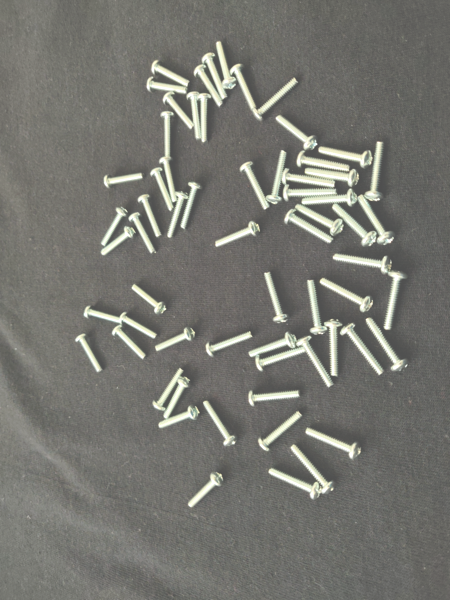longscrew: (365, 315, 410, 373), (339, 322, 385, 377), (290, 444, 337, 496), (252, 76, 300, 123), (305, 423, 362, 462), (296, 335, 335, 391), (331, 203, 378, 248), (319, 277, 375, 314), (358, 193, 396, 247), (258, 410, 304, 452), (284, 208, 336, 245), (267, 468, 323, 502), (202, 401, 239, 449), (294, 203, 346, 237), (275, 114, 319, 152), (239, 161, 272, 211), (383, 270, 410, 331), (318, 142, 373, 170), (263, 271, 291, 325), (152, 368, 186, 412), (364, 140, 388, 202), (248, 331, 299, 360), (230, 63, 259, 113), (193, 64, 224, 110), (255, 346, 307, 373), (332, 253, 393, 276), (265, 150, 290, 206), (214, 221, 262, 250), (205, 331, 254, 359), (201, 52, 228, 102), (162, 91, 195, 131), (111, 325, 147, 361), (163, 377, 193, 420), (188, 474, 224, 509), (323, 318, 344, 378), (307, 279, 329, 336), (300, 188, 359, 209), (179, 181, 204, 230), (302, 168, 360, 189), (128, 212, 156, 255), (119, 311, 159, 341), (75, 333, 104, 374), (100, 206, 129, 247), (131, 282, 167, 315), (296, 150, 350, 172), (100, 225, 137, 257), (166, 191, 190, 239), (137, 193, 162, 239), (154, 327, 197, 353), (151, 60, 190, 88), (150, 167, 174, 212), (216, 41, 238, 90), (157, 405, 200, 430), (282, 184, 338, 203), (281, 169, 337, 188), (248, 388, 301, 408), (159, 156, 179, 203), (196, 93, 213, 145), (82, 305, 124, 326), (146, 77, 189, 96), (160, 111, 177, 159), (186, 91, 202, 141), (103, 171, 146, 189)
